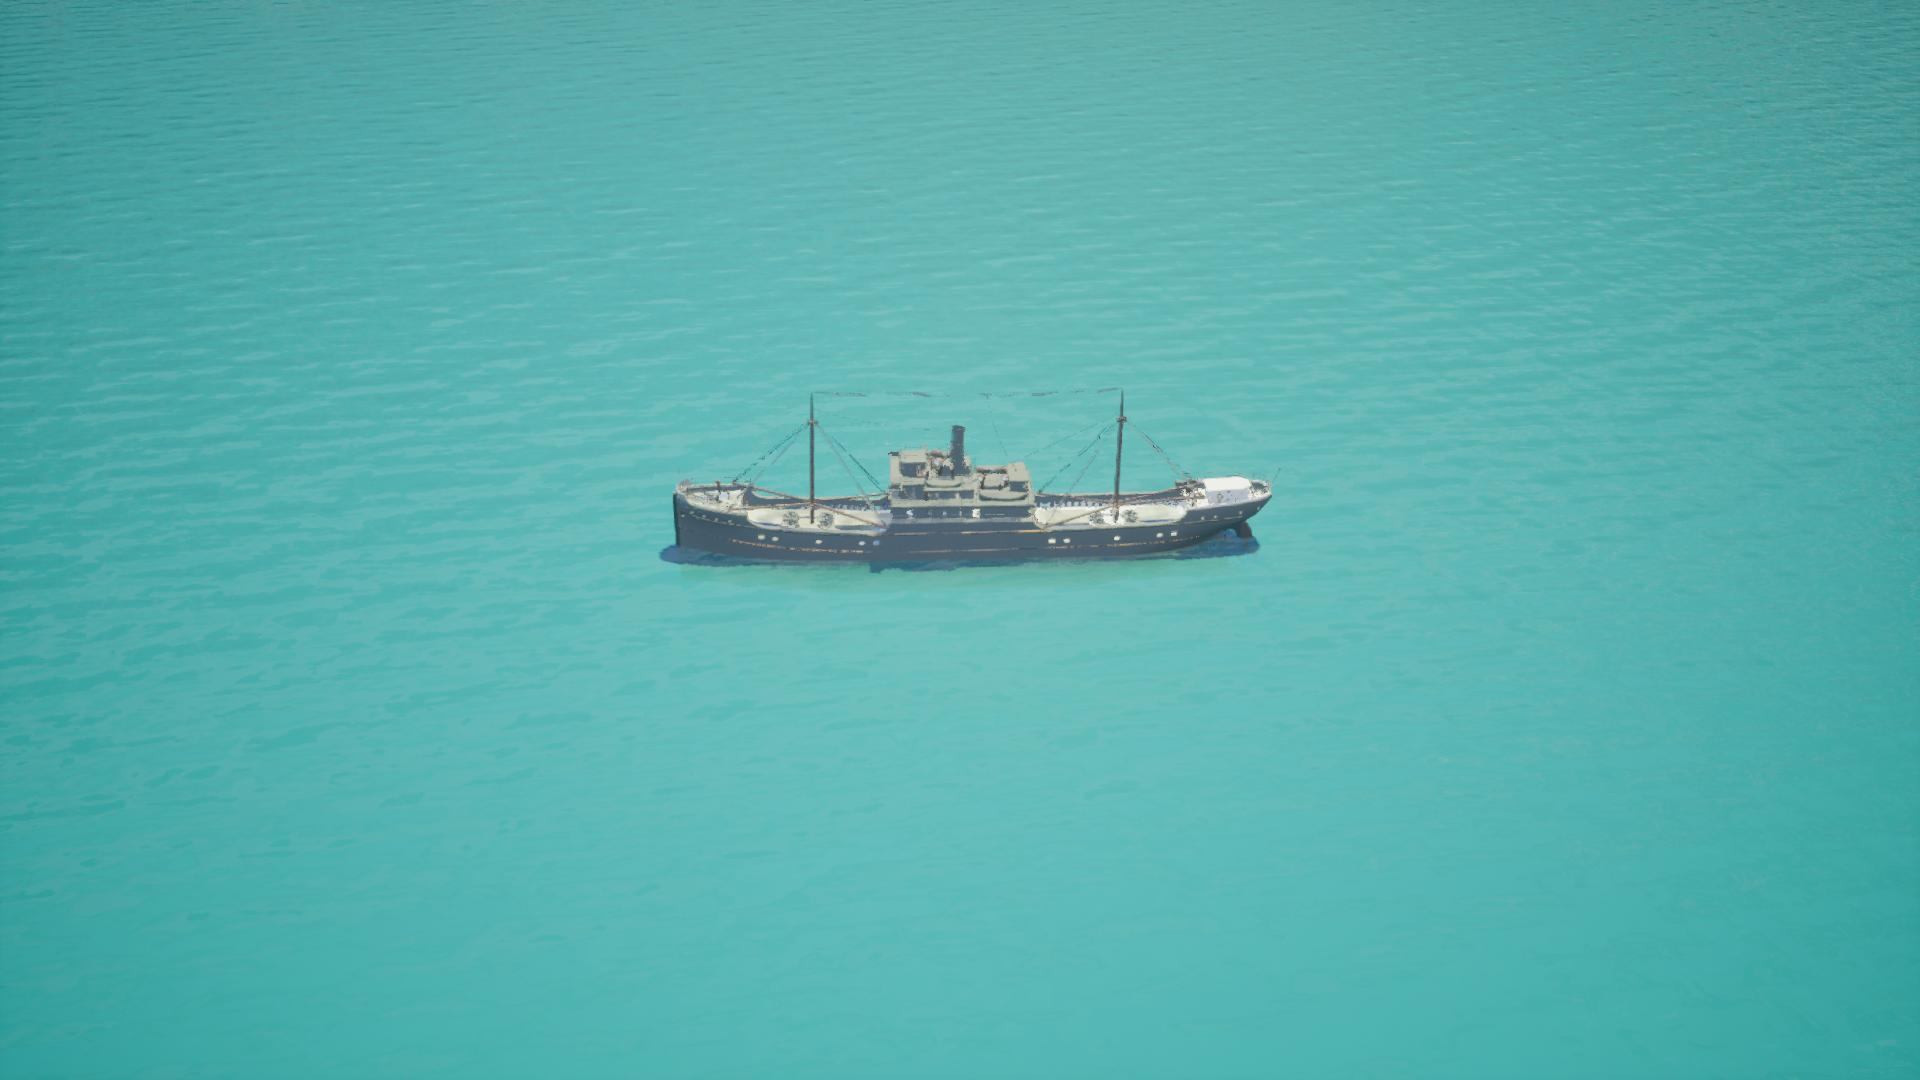Fishing Boat: (876, 392, 1270, 568), (674, 394, 882, 560)
